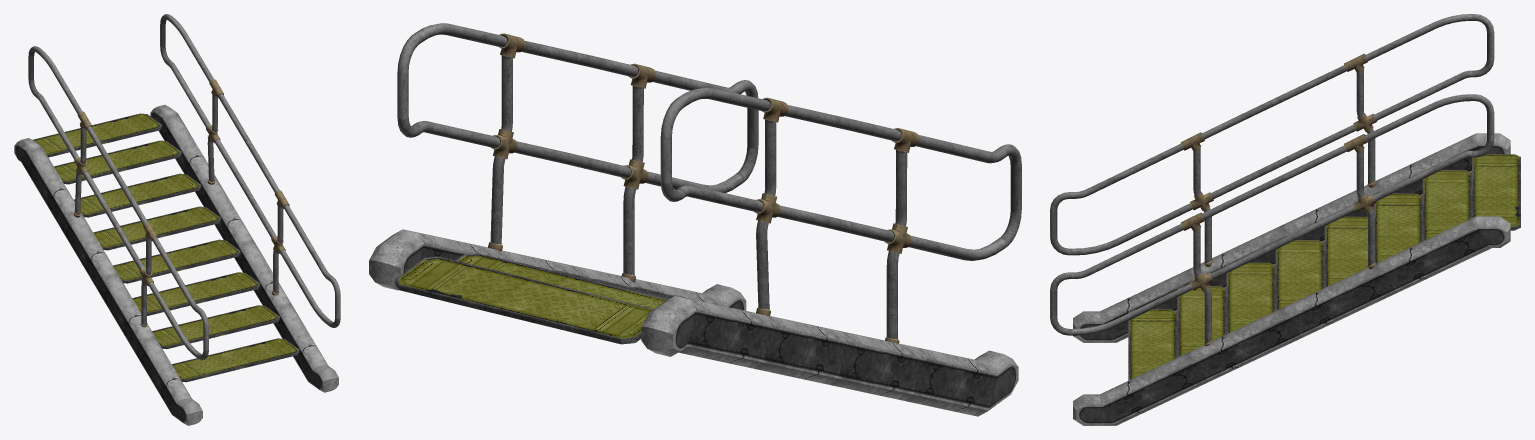
Rendered from metal_datasite_straight_short.dae.
The picture shows the model from 3 angles, left to right: view 1: azimuth 30°, elevation 25°; view 2: azimuth 150°, elevation 25°; view 3: azimuth 270°, elevation 25°; orthographic projection. The views are drawn at different scales.
Visible parts, largest first — view 1: polySurface1, rail__3_; view 2: polySurface1, rail__3_; view 3: polySurface1, rail__3_.
Boxes of the visible parts, box(x1,y1,x2,y2) form: polySurface1: box(14, 104, 338, 425); rail__3_: box(28, 14, 340, 360); polySurface1: box(369, 229, 1018, 416); rail__3_: box(397, 23, 1021, 343); polySurface1: box(1073, 133, 1520, 425); rail__3_: box(1050, 14, 1494, 346).
Size of the model in its own units: 224 by 369 by 480.
